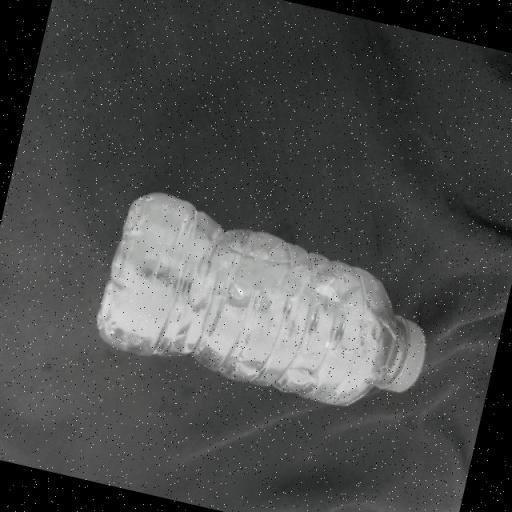bottle: (98, 193, 425, 405)
